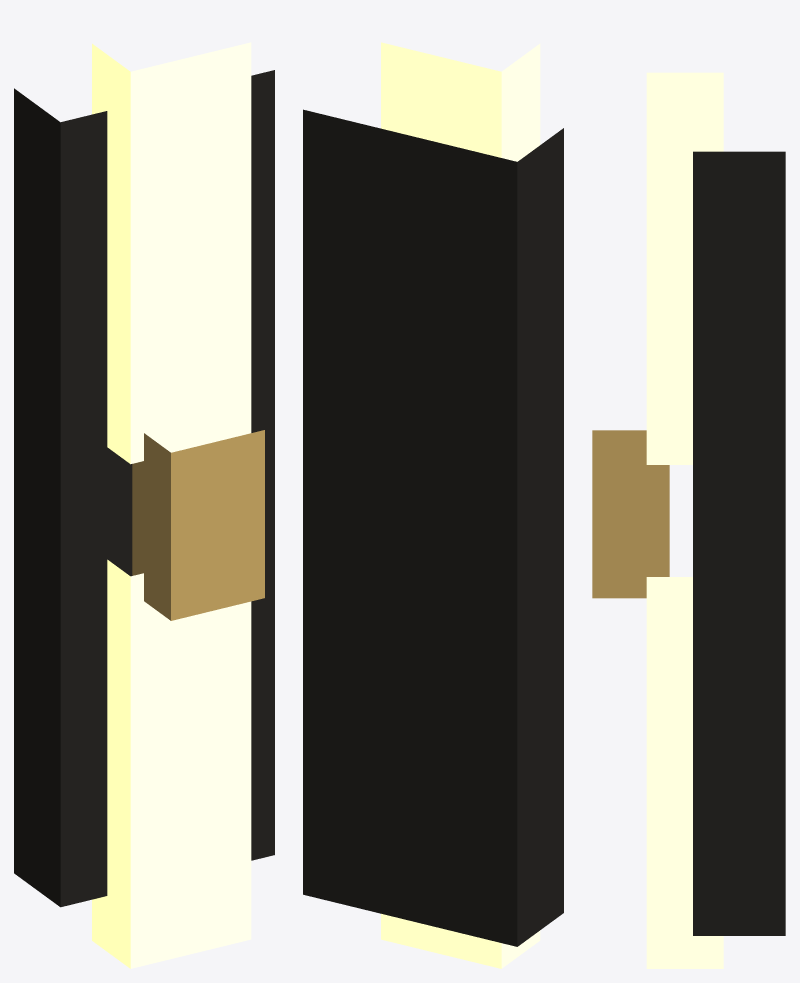
File: sconce.glb
3 renders of one model, left to right at view 1: azimuth 30°, elevation 25°; view 2: azimuth 150°, elevation 25°; view 3: azimuth 270°, elevation 25°, orthographic.
Size of the model in its own units: 0.16 by 0.64 by 0.125.
